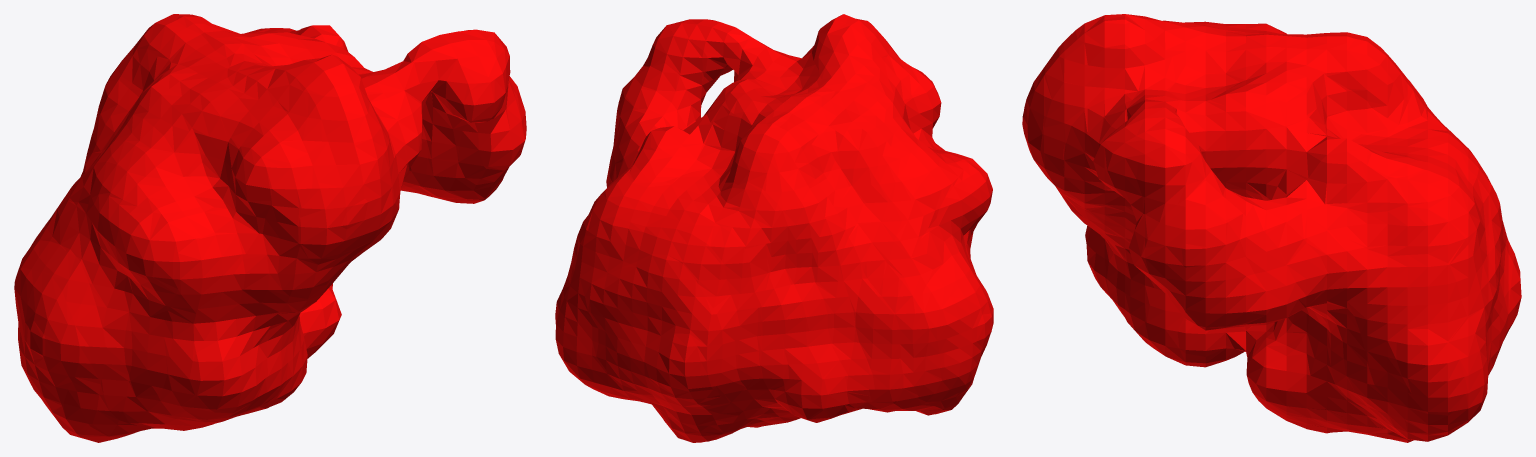
The model's file is glyA_coarse.dae.
3 renders of one model, left to right at view 1: azimuth 30°, elevation 25°; view 2: azimuth 150°, elevation 25°; view 3: azimuth 270°, elevation 25°, orthographic. The views are drawn at different scales.
Parts seen in each view (by area): view 1: glyA; view 2: glyA; view 3: glyA.
Part boxes in pixels (left/top/right/bottom): glyA: left=14, top=14, right=526, bottom=442; glyA: left=555, top=14, right=993, bottom=442; glyA: left=1022, top=14, right=1521, bottom=442.
Bounding box in the file's own units: 66.5 × 56.65 × 62.79.
